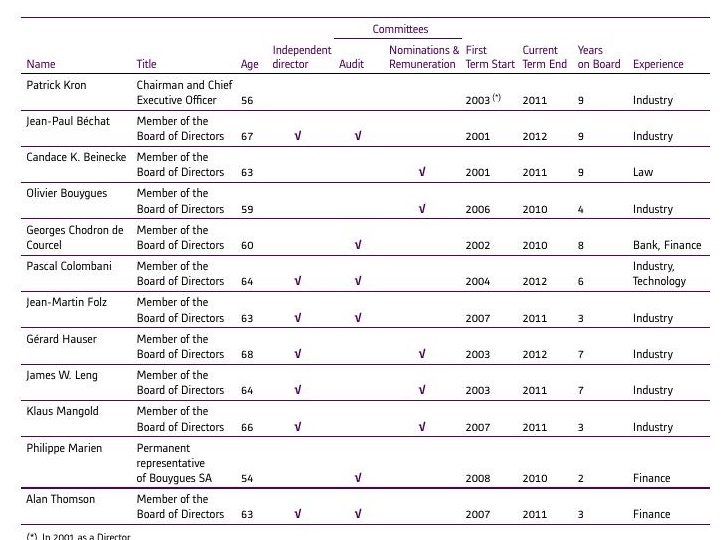table: (0, 0, 728, 540)
